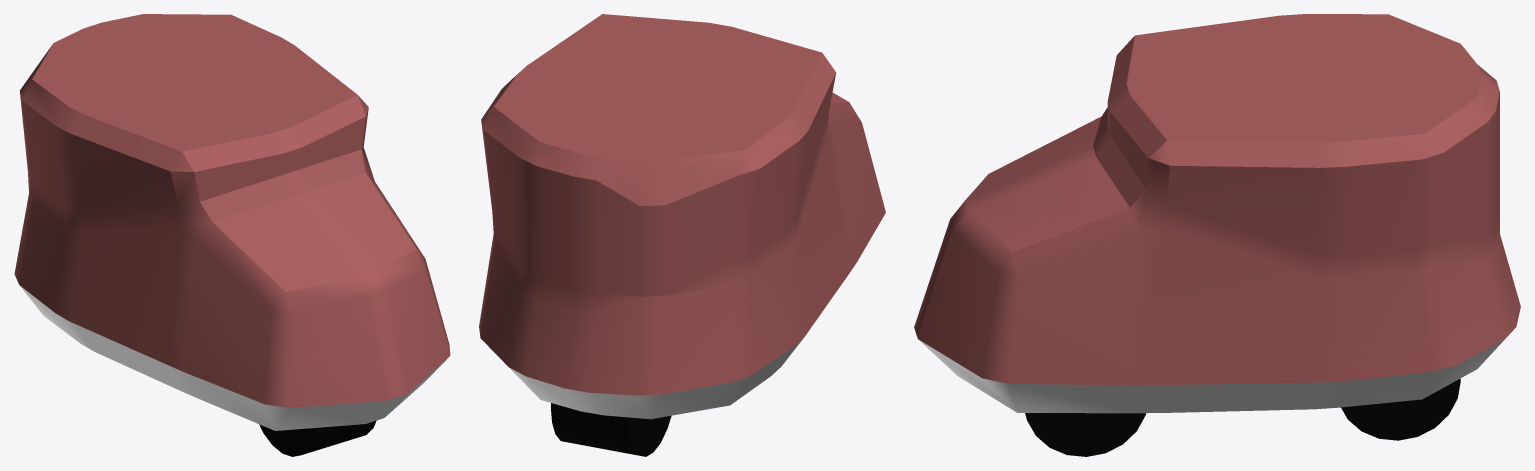
Rendered from shose.fbx.
3 renders of one model, left to right at view 1: azimuth 30°, elevation 25°; view 2: azimuth 150°, elevation 25°; view 3: azimuth 270°, elevation 25°, orthographic. The views are drawn at different scales.
Parts seen in each view (by area): view 1: pCube4, pCylinder1; view 2: pCube4, pCylinder2; view 3: pCube4, pCylinder1, pCylinder2.
Part boxes in pixels (x1,y1,x2,y2): pCube4: (14, 14, 450, 430); pCylinder1: (259, 420, 376, 456); pCube4: (479, 14, 885, 419); pCylinder2: (551, 403, 671, 456); pCube4: (914, 14, 1520, 413); pCylinder1: (1025, 413, 1145, 456); pCylinder2: (1341, 378, 1460, 440).
Size of the model in its own units: 2.91 by 3.16 by 5.08.
